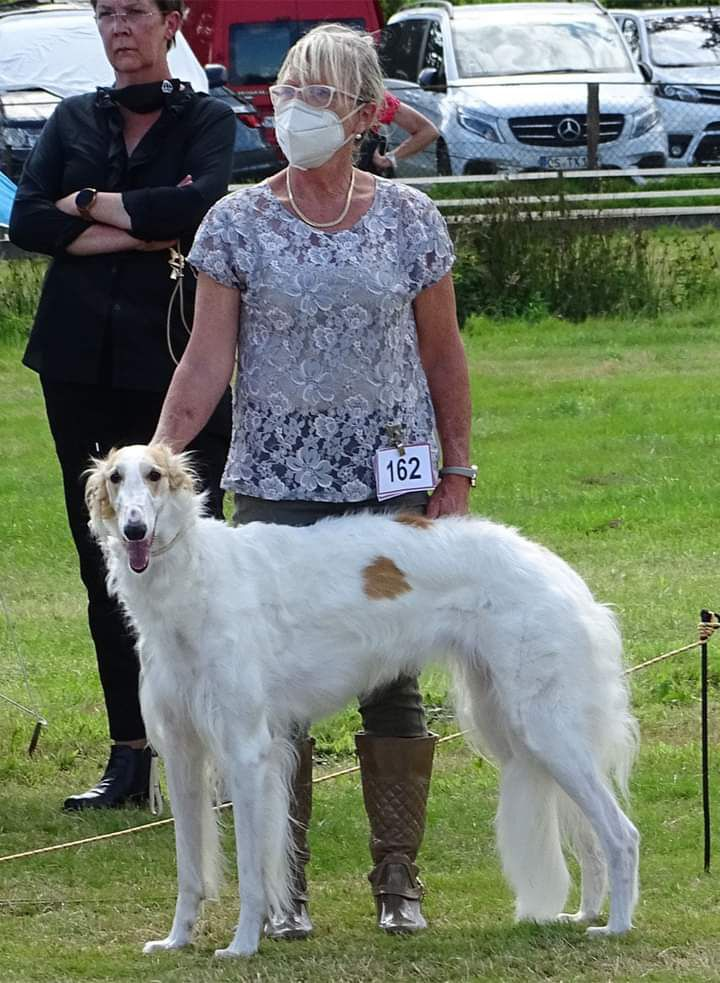borzoi: (71, 445, 651, 956)
